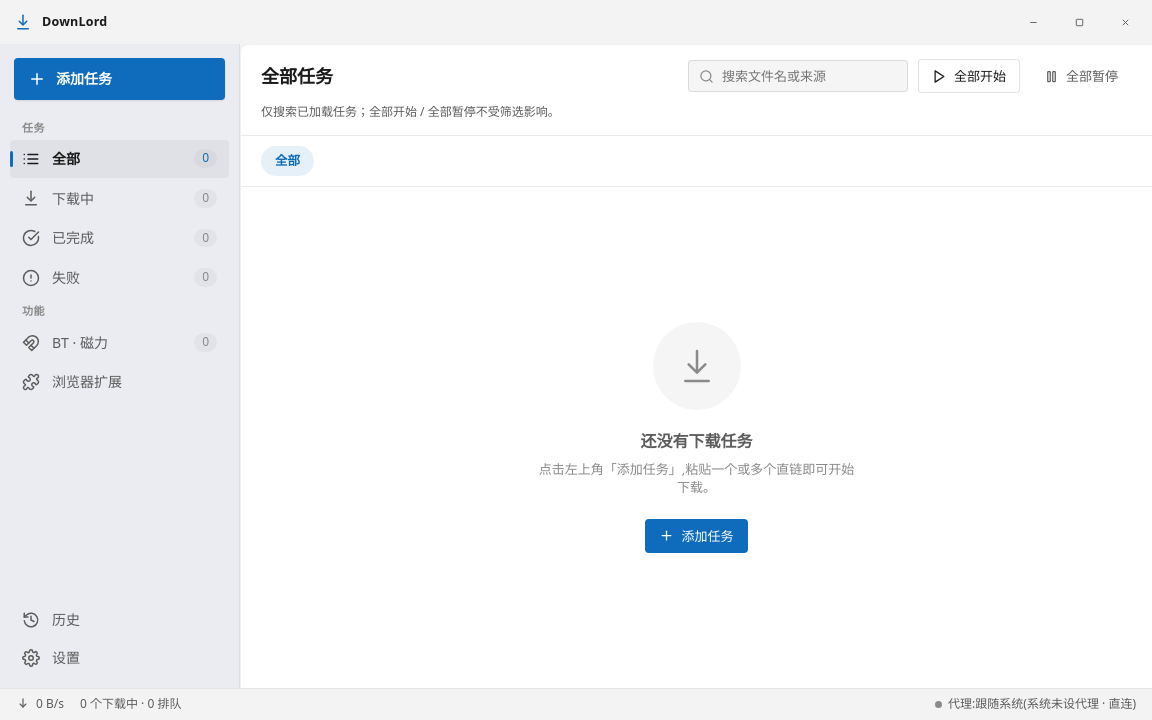
Test: 添加对话框预填 settings.defaultDir(非系统目录;G 修复:改默认目录后新任务落对处)
Expected: the heading "还没有下载任务" is shown, top-left (640, 430), bottom-right (752, 452)
Click the 1st button "添加任务" at (120, 79), box top-left (14, 58), bottom-right (225, 100)
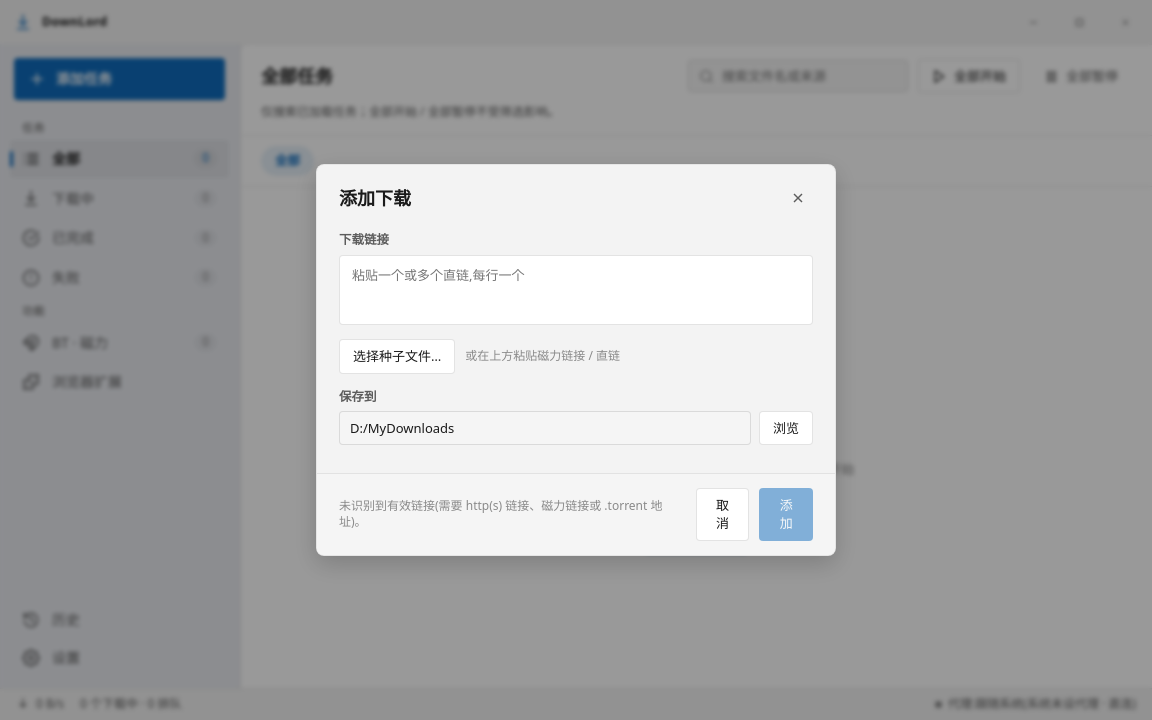
Now the field showing "D:/MyDownloads" is shown, box top-left (339, 411), bottom-right (751, 445)
